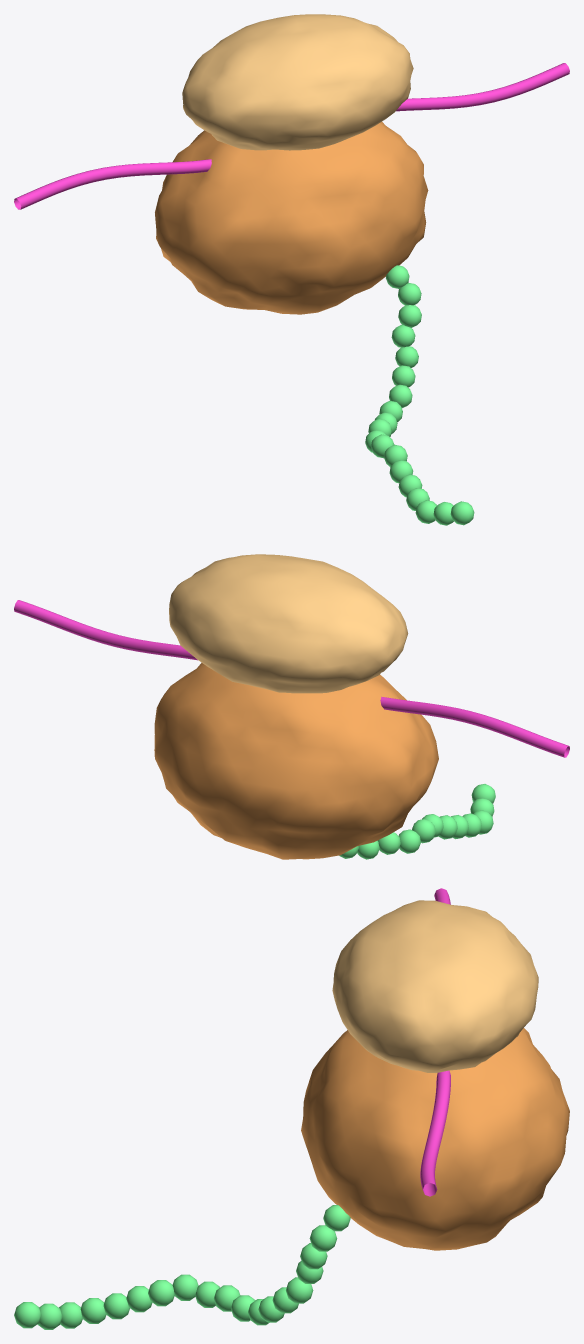
File: ribosome.glb
3 views of the same model, one above another, from view 1: azimuth 30°, elevation 25°; view 2: azimuth 150°, elevation 25°; view 3: azimuth 270°, elevation 25° (orthographic). The views are drawn at different scales.
Parts seen in each view (by area): view 1: ribo_large, ribo_small, ribo_peptide, ribo_mrna; view 2: ribo_large, ribo_small, ribo_mrna, ribo_peptide; view 3: ribo_large, ribo_small, ribo_peptide, ribo_mrna.
Boxes of the visible parts, x1,y1,x2,y2 form: ribo_large: [155, 122, 428, 314]; ribo_small: [182, 14, 413, 150]; ribo_peptide: [365, 265, 474, 525]; ribo_mrna: [14, 63, 569, 209]; ribo_large: [154, 662, 438, 859]; ribo_small: [169, 554, 408, 693]; ribo_mrna: [14, 600, 569, 757]; ribo_peptide: [339, 784, 495, 859]; ribo_large: [301, 1028, 569, 1250]; ribo_small: [332, 900, 538, 1072]; ribo_peptide: [14, 1205, 350, 1329]; ribo_mrna: [420, 888, 450, 1196].
Bounding box in the file's own units: 4.41 × 2.86 × 3.42.
